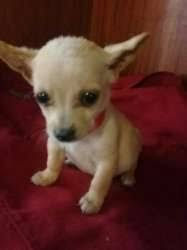chihuahua: (1, 24, 168, 212)
